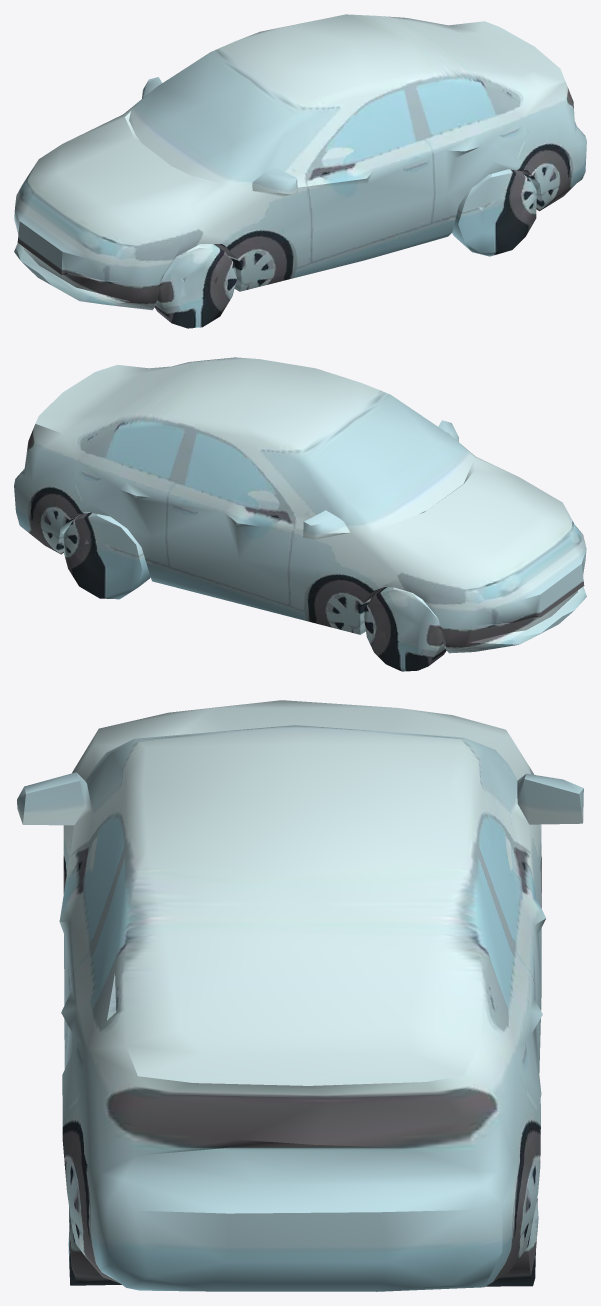
3 renders of one model, top to bottom at view 1: azimuth 30°, elevation 25°; view 2: azimuth 150°, elevation 25°; view 3: azimuth 270°, elevation 25°, orthographic. The views are drawn at different scales.
Visible parts, largest first — view 1: Decor_sedan; view 2: Decor_sedan; view 3: Decor_sedan.
Boxes of the visible parts, x1,y1,x2,y2 form: Decor_sedan: [14, 14, 586, 328]; Decor_sedan: [14, 357, 586, 671]; Decor_sedan: [17, 700, 583, 1291].
Bounding box in the file's own units: 4.06 × 1.45 × 1.95.
1 material, 1 textured.
